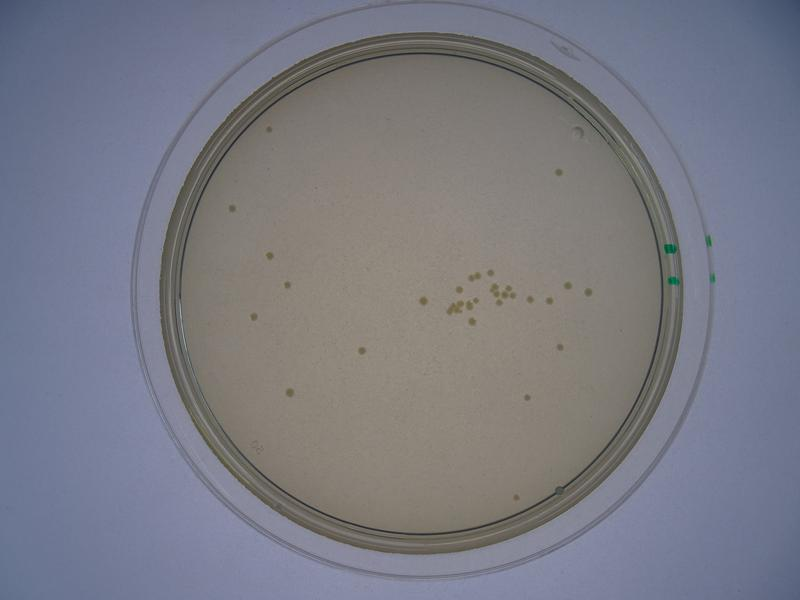colony: (261, 249, 275, 263), (521, 392, 537, 403), (245, 312, 257, 326), (356, 344, 368, 358), (225, 201, 236, 216), (551, 342, 567, 352), (282, 385, 295, 397), (416, 293, 428, 306), (561, 279, 574, 291), (262, 122, 275, 134), (585, 285, 595, 300), (553, 166, 566, 177), (543, 293, 554, 306), (282, 280, 292, 291), (486, 267, 495, 276)
